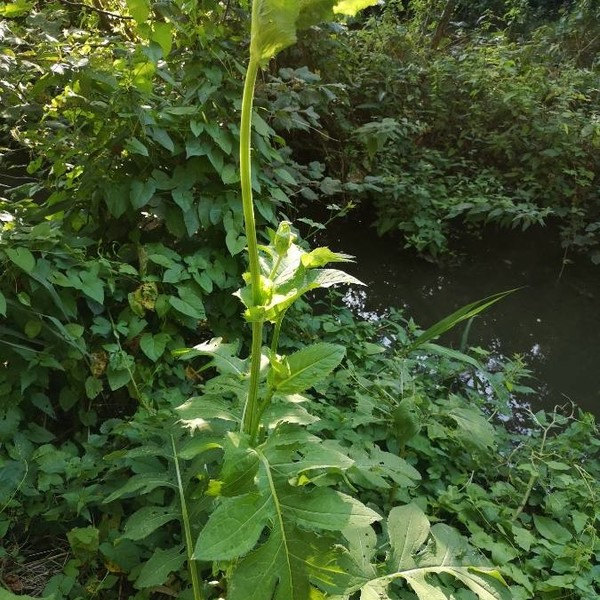obstacle: (150, 29, 569, 577), (45, 31, 277, 218)
